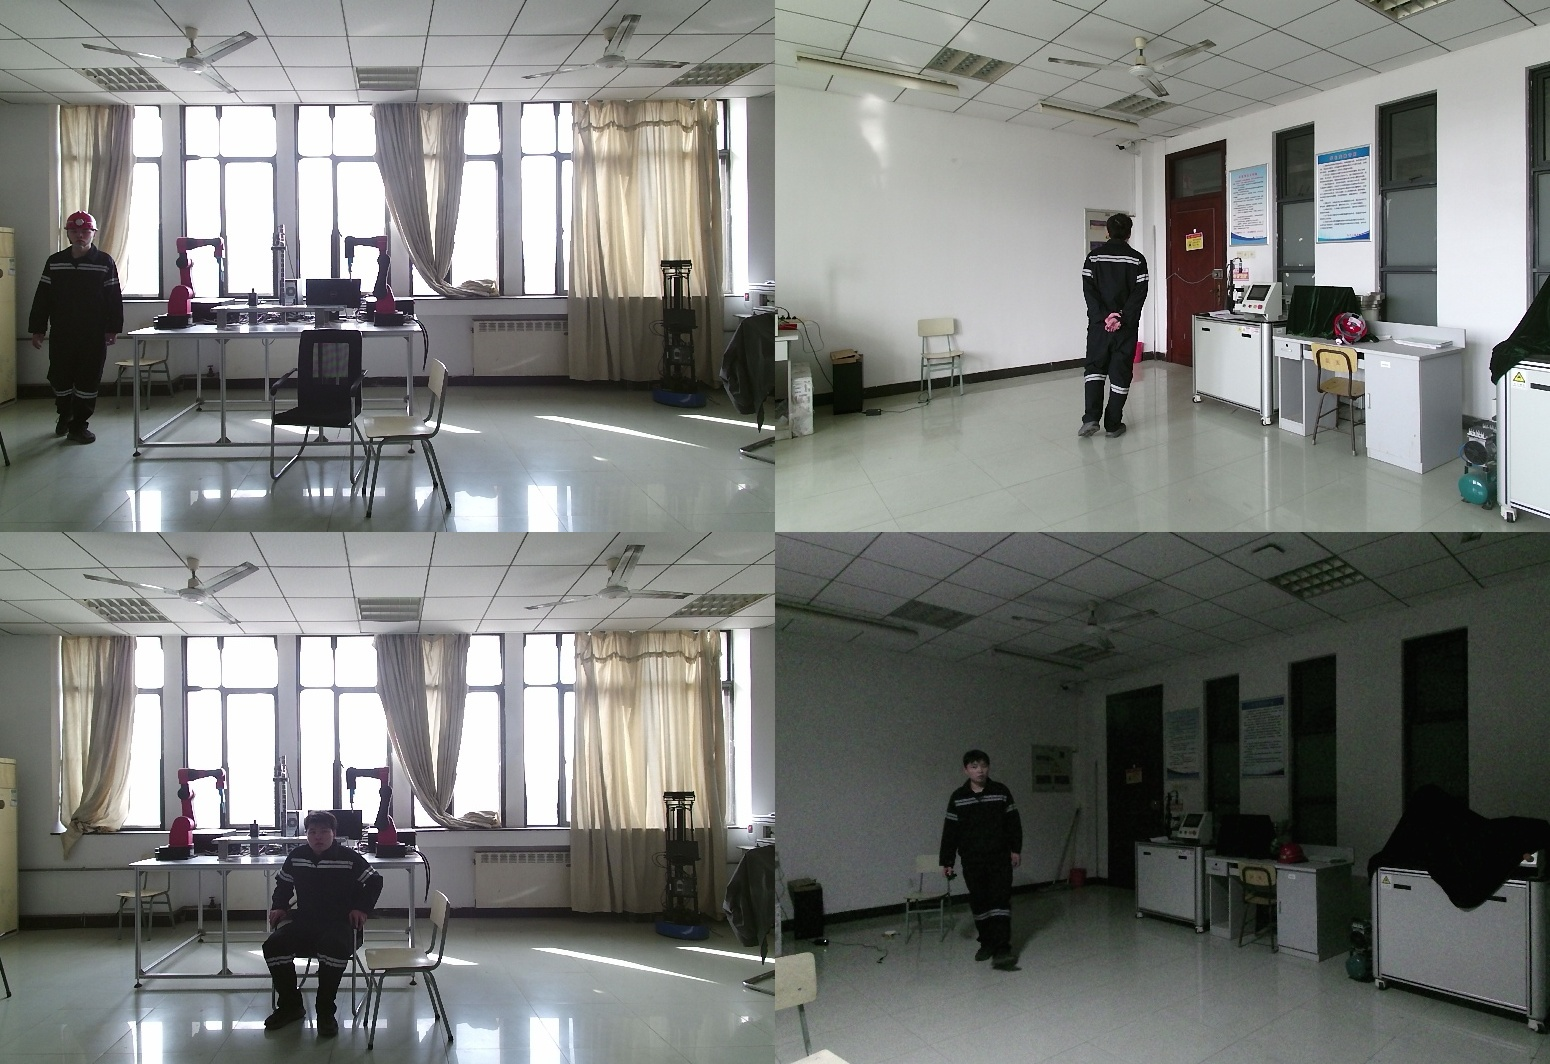person: (264, 812, 390, 1036), (29, 212, 126, 445), (940, 752, 1030, 969), (1074, 213, 1157, 440)
